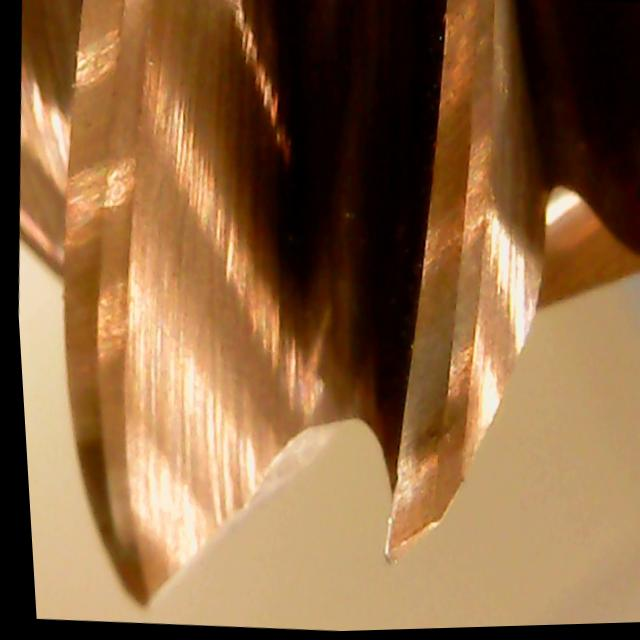Tool-wear-class-0: (340, 161, 510, 574)
